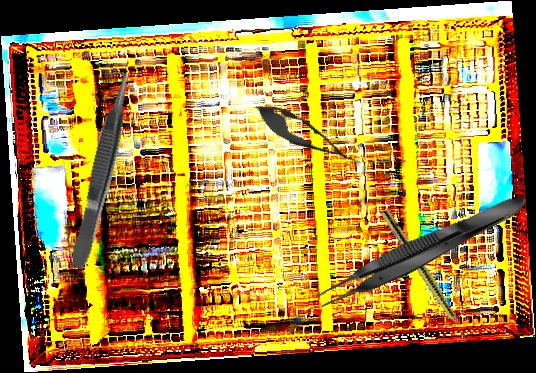Handpiece: (378, 208, 473, 344)
Micro Scissor: (247, 94, 369, 178)
Tissue Forceps: (311, 187, 533, 316), (64, 67, 140, 271)
